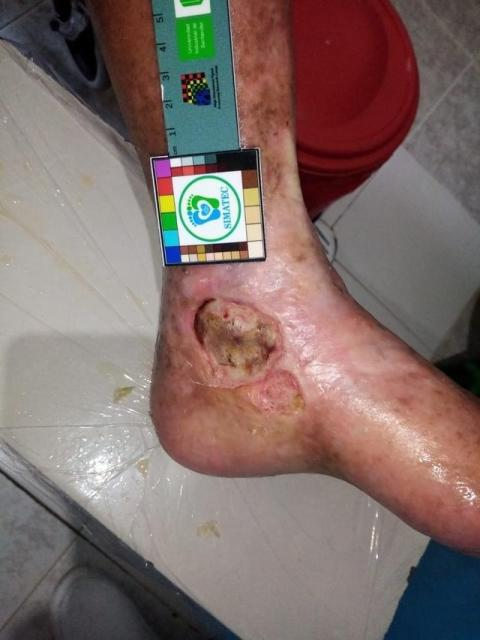wound: (188, 293, 309, 414)
